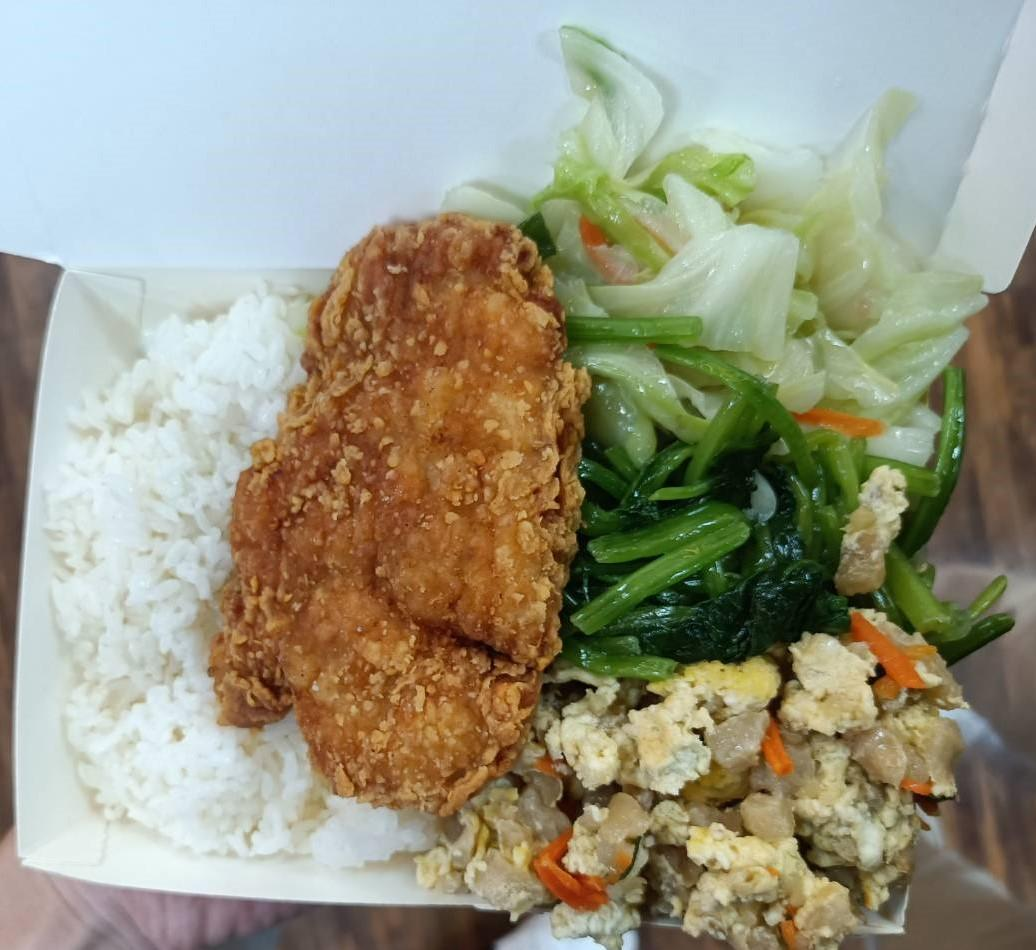big grilled chicken leg: (10, 228, 964, 950)
big herbal chicken leg: (50, 286, 449, 865)
braised fish fillet: (521, 16, 985, 444), (461, 637, 968, 950), (576, 384, 1005, 687)
braised pork: (191, 214, 604, 818)
